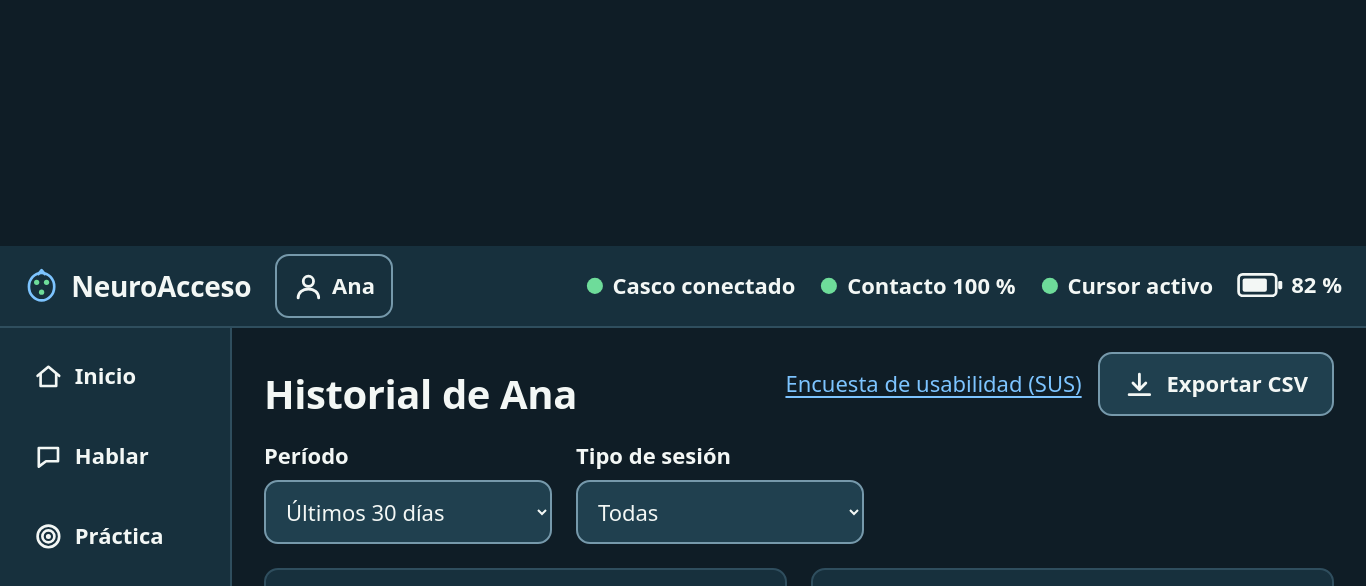
Scenario: historial › exporta el CSV del perfil
(page scrolled)
Click the button "Exportar CSV" at (1216, 384), box [1098,352,1334,416]
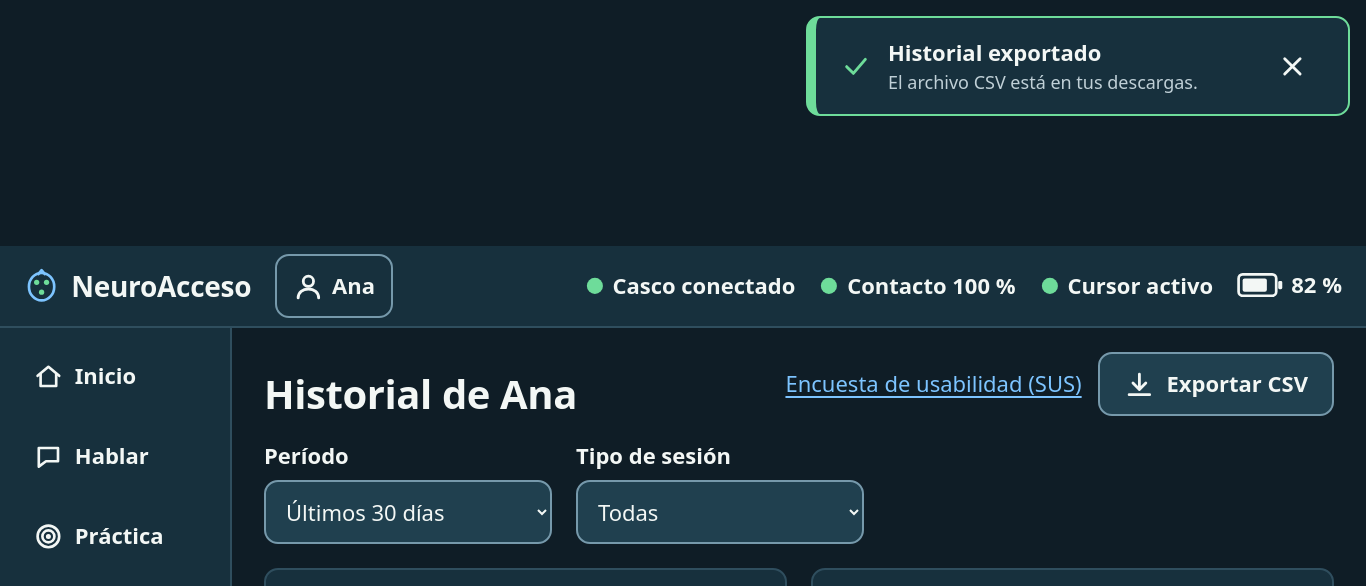
Result: the text "Historial exportado" is shown at [888,37,1101,67]
